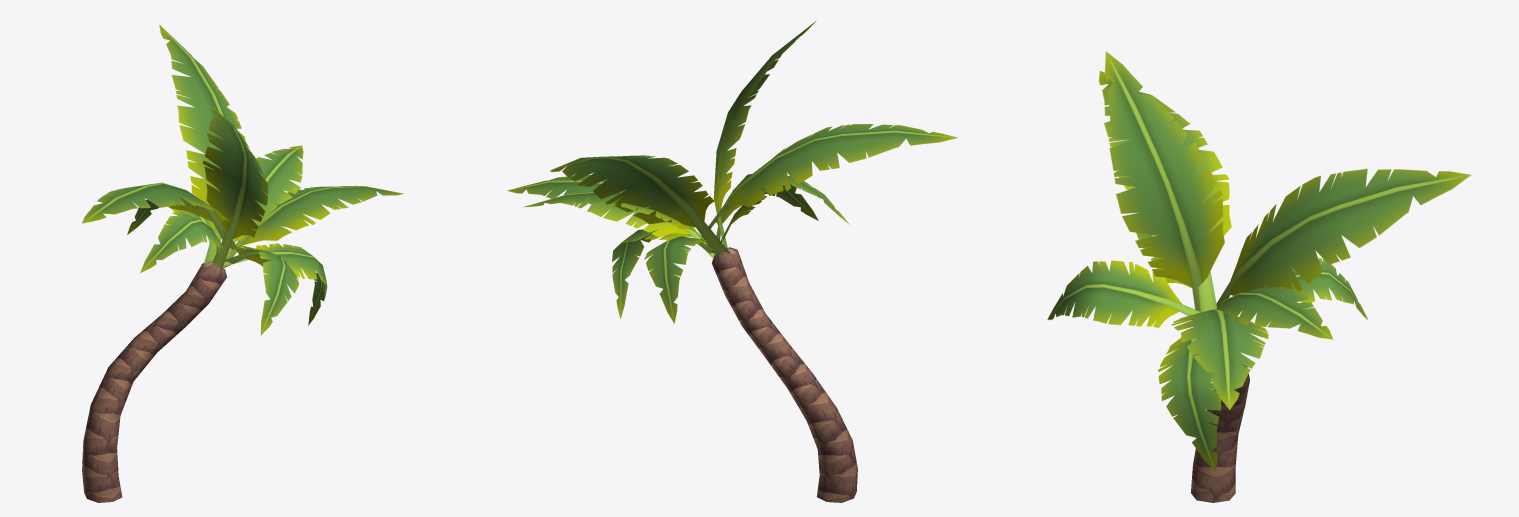
Rendered from palm_tree2.glb.
3 renders of one model, left to right at view 1: azimuth 30°, elevation 25°; view 2: azimuth 150°, elevation 25°; view 3: azimuth 270°, elevation 25°, orthographic. The views are drawn at different scales.
Parts seen in each view (by area): view 1: PalmTree_2; view 2: PalmTree_2; view 3: PalmTree_2.
Boxes of the visible parts, x1,y1,x2,y2 form: PalmTree_2: (82, 25, 404, 502); PalmTree_2: (507, 20, 958, 502); PalmTree_2: (1047, 51, 1471, 502).
Bounding box in the file's own units: 5.58 × 5.28 × 4.77.
Materials: 2 (2 with a texture image).
